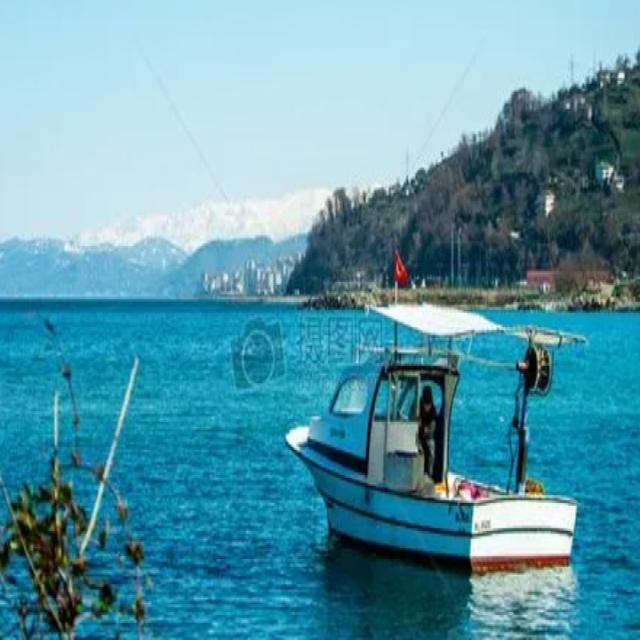houseboat: (287, 320, 576, 576)
